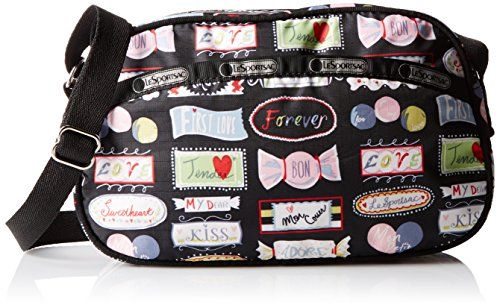nylon: (5, 2, 495, 268)
